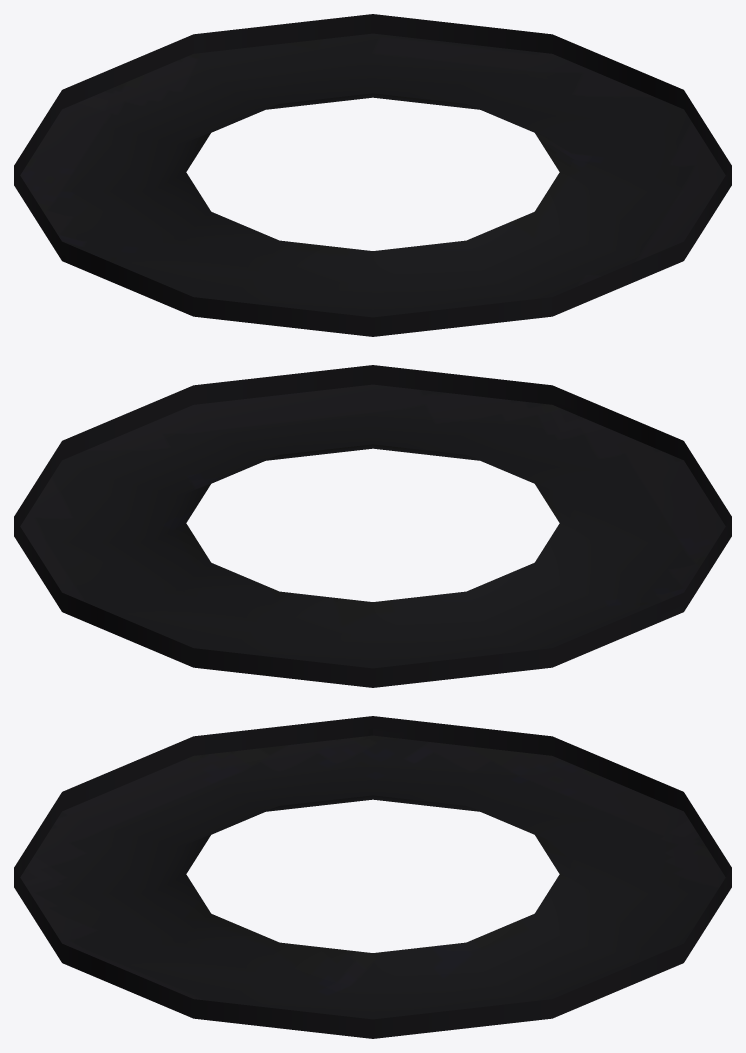
The model's file is atrium_downlight.glb.
3 views of the same model, one above another, from view 1: azimuth 30°, elevation 25°; view 2: azimuth 150°, elevation 25°; view 3: azimuth 270°, elevation 25° (orthographic).
Parts seen in each view (by area): view 1: atrium_downlight; view 2: atrium_downlight; view 3: atrium_downlight.
Boxes of the visible parts, x1,y1,x2,y2 form: atrium_downlight: (14,14,731,336); atrium_downlight: (14,365,731,687); atrium_downlight: (14,716,731,1038).
Size of the model in its own units: 0.2 by 0.00801 by 0.2.
1 material, 1 textured.
